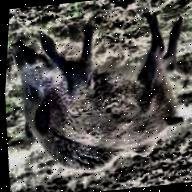boar: (0, 5, 192, 188)
